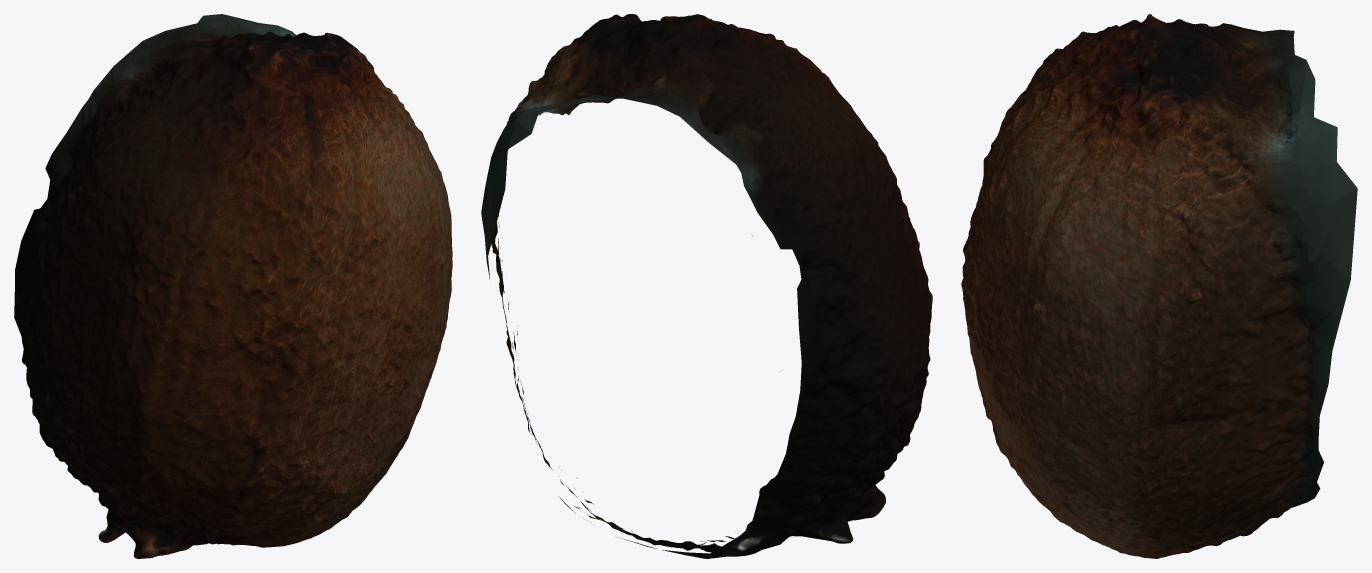
The model's file is Kiwi Android.glb.
3 renders of one model, left to right at view 1: azimuth 30°, elevation 25°; view 2: azimuth 150°, elevation 25°; view 3: azimuth 270°, elevation 25°, orthographic. The views are drawn at different scales.
Bounding box in the file's own units: 0.576 × 0.7064 × 0.4845.
Materials: 1 (1 with a texture image).
